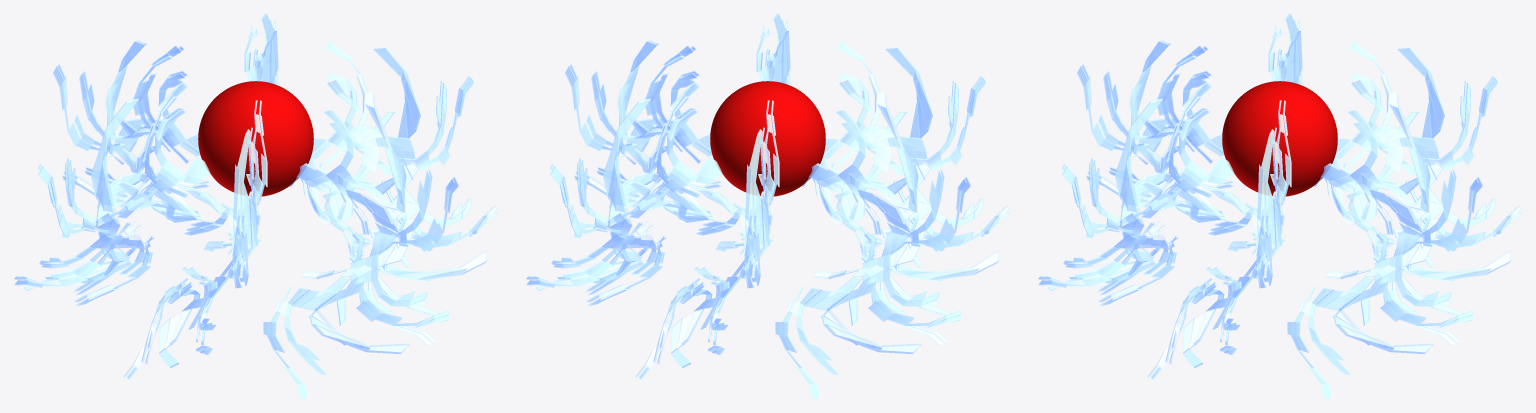
The model's file is orblightning.glb.
3 views of the same model, side by side, from view 1: azimuth 30°, elevation 25°; view 2: azimuth 150°, elevation 25°; view 3: azimuth 270°, elevation 25° (orthographic).
Parts seen in each view (by area): view 1: Object_5, Object_4, Object_6, Object_3; view 2: Object_6, Object_5, Object_4, Object_3; view 3: Object_6, Object_5, Object_4, Object_3.
Part boxes in pixels (<box>): Object_5: <box>38,40,458,288</box>; Object_4: <box>14,143,449,398</box>; Object_6: <box>244,14,497,345</box>; Object_3: <box>198,81,313,196</box>; Object_6: <box>526,40,746,305</box>; Object_5: <box>738,14,985,288</box>; Object_4: <box>636,149,1009,398</box>; Object_3: <box>710,81,825,196</box>; Object_6: <box>1148,80,1482,398</box>; Object_5: <box>1062,14,1497,237</box>; Object_4: <box>1038,143,1521,345</box>; Object_3: <box>1222,81,1337,196</box>.
Size of the model in its own units: 115 by 66.38 by 111.
